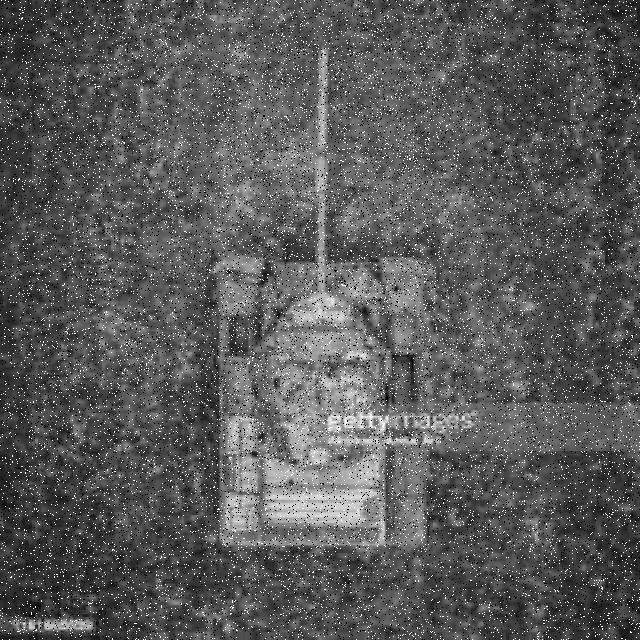MIL_MBT: (216, 41, 429, 547)
